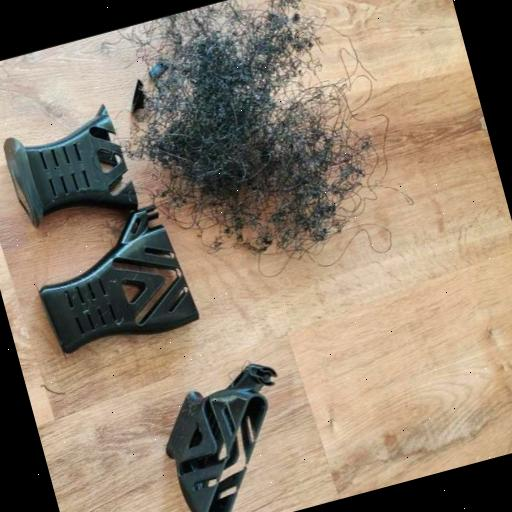spaghetti: (134, 12, 314, 216), (288, 89, 380, 209), (228, 176, 342, 270), (264, 0, 323, 69)
